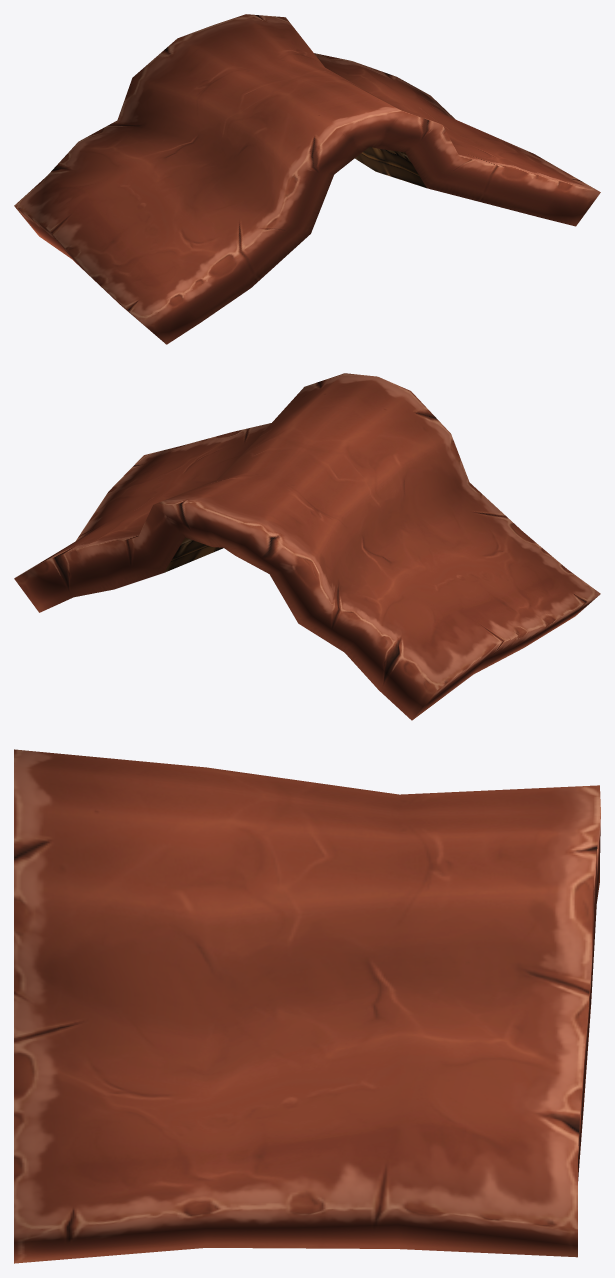
The model's file is roof_ridge3.fbx.
3 views of the same model, one above another, from view 1: azimuth 30°, elevation 25°; view 2: azimuth 150°, elevation 25°; view 3: azimuth 270°, elevation 25° (orthographic). The views are drawn at different scales.
Visible parts, largest first — view 1: roof_ridge3; view 2: roof_ridge3; view 3: roof_ridge3.
Part boxes in pixels (<box>): roof_ridge3: <box>14,14,600,344</box>; roof_ridge3: <box>14,373,600,720</box>; roof_ridge3: <box>14,749,600,1263</box>.
Bounding box in the file's own units: 92.21 × 36 × 54.49.
